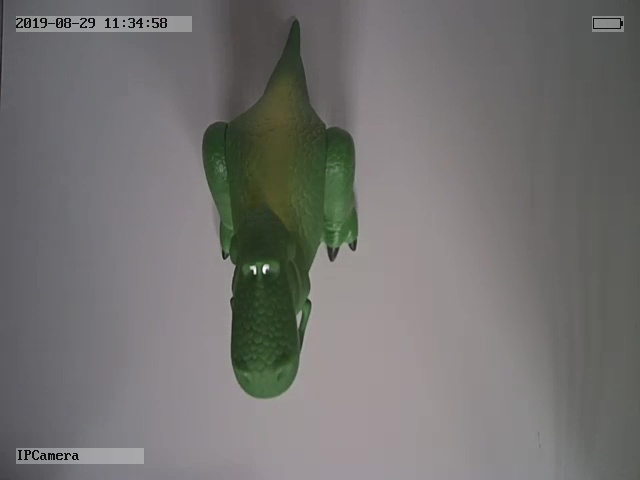rex: (200, 17, 358, 399)
